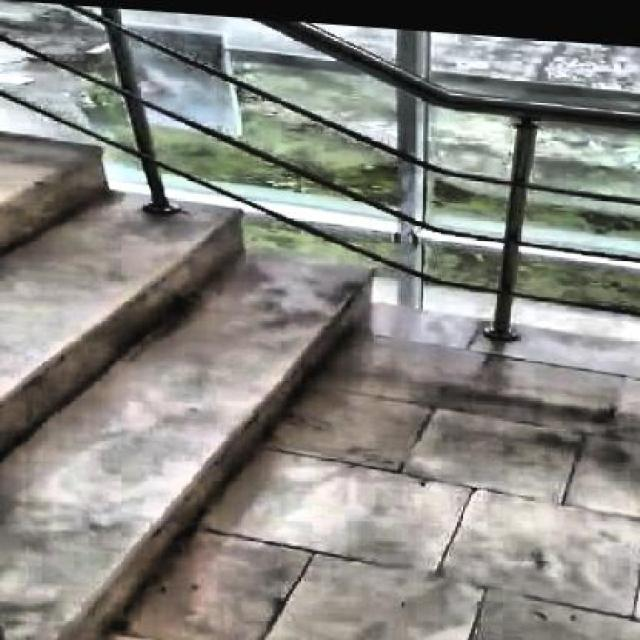stair: (0, 130, 366, 638)
